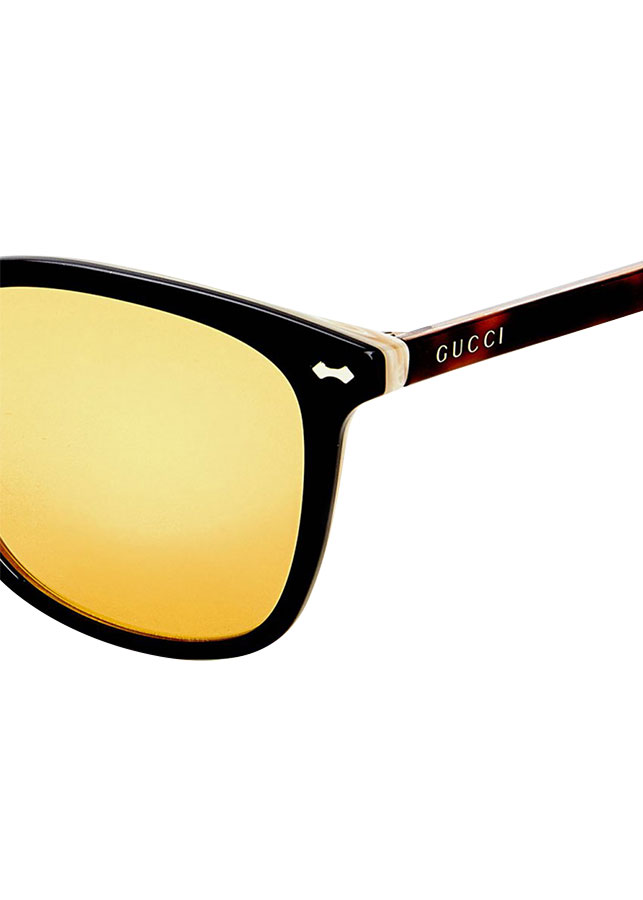Gucci: (429, 316, 512, 366)
